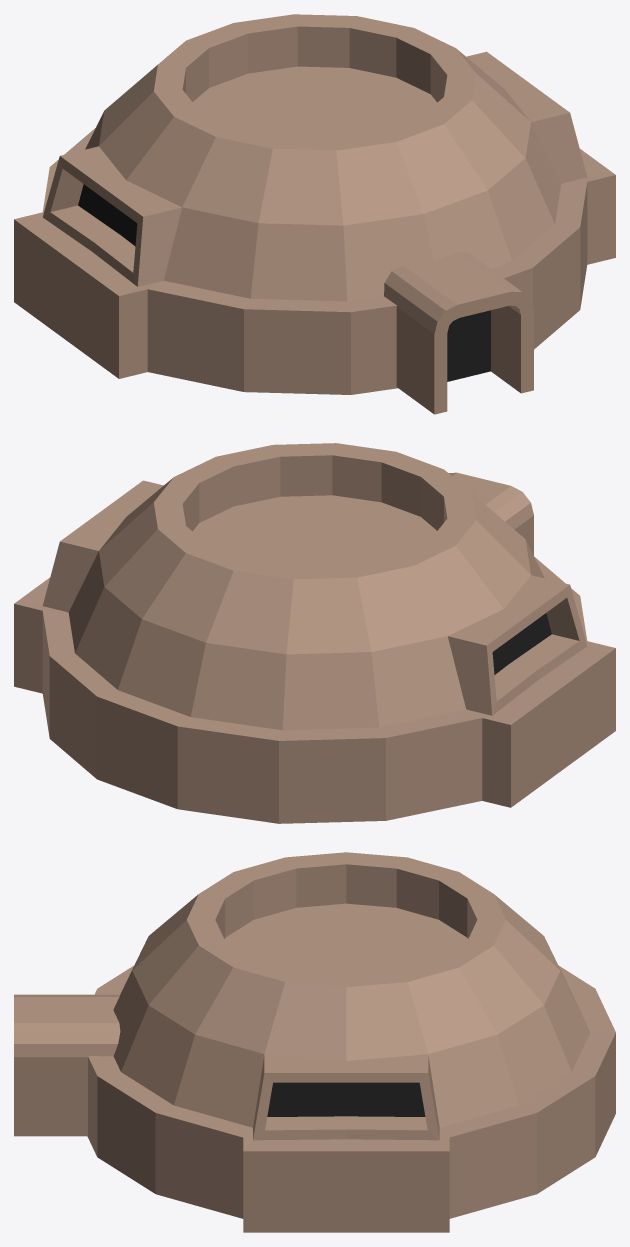
File: house_2.fbx
The picture shows the model from 3 angles, top to bottom: view 1: azimuth 30°, elevation 25°; view 2: azimuth 150°, elevation 25°; view 3: azimuth 270°, elevation 25°; orthographic projection.
Visible parts, largest first — view 1: Cube.008; view 2: Cube.008; view 3: Cube.008.
Part boxes in pixels (x1=…): Cube.008: x1=14, y1=14, x2=615, y2=414; Cube.008: x1=14, y1=443, x2=615, y2=823; Cube.008: x1=14, y1=852, x2=615, y2=1232.
Bounding box in the file's own units: 1358 × 516 × 1451.
